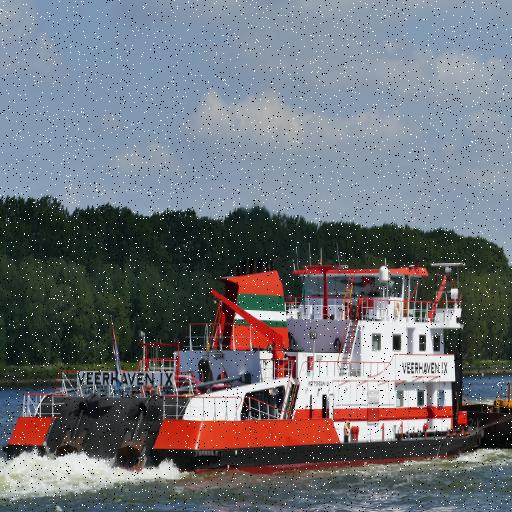tugboat: (1, 257, 487, 476)
